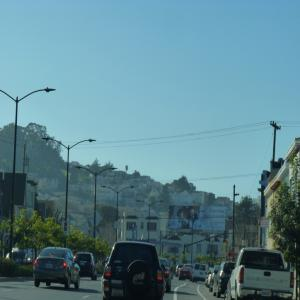Vehicle-registration-plate: (112, 289, 125, 300), (261, 289, 273, 299), (46, 265, 54, 270)
